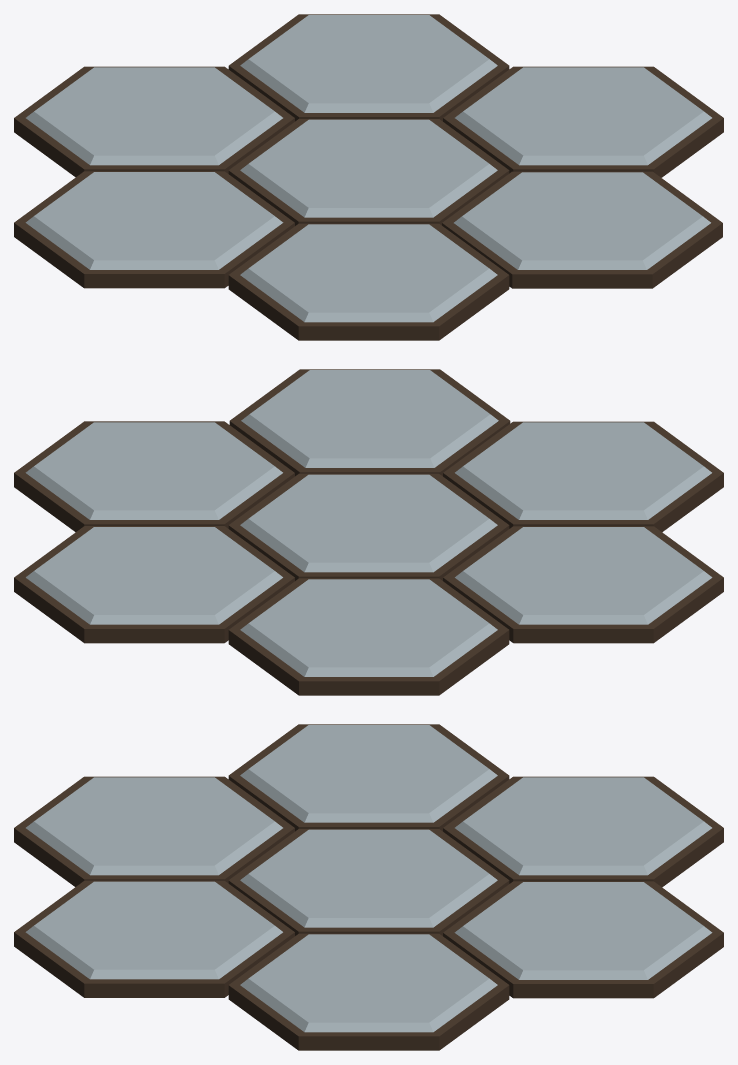
The model's file is Floor.gltf.
The picture shows the model from 3 angles, top to bottom: view 1: azimuth 30°, elevation 25°; view 2: azimuth 150°, elevation 25°; view 3: azimuth 270°, elevation 25°; orthographic projection.
Visible parts, largest first — view 1: hexagon.002, hexagon.005, hexagon.004, hexagon.006, hexagon.001, hexagon.003, hexagon; view 2: hexagon.001, hexagon.003, hexagon.005, hexagon.002, hexagon.006, hexagon, hexagon.004; view 3: hexagon.006, hexagon.004, hexagon.003, hexagon.001, hexagon.002, hexagon.005, hexagon.
Boxes of the visible parts, x1,y1,x2,y2 form: hexagon.002: (228, 223, 509, 340); hexagon.005: (14, 171, 294, 288); hexagon.004: (442, 171, 722, 288); hexagon.006: (443, 66, 723, 177); hexagon.001: (14, 66, 294, 177); hexagon.003: (228, 14, 509, 121); hexagon: (228, 119, 509, 225); hexagon.001: (228, 578, 509, 695); hexagon.003: (14, 526, 294, 643); hexagon.005: (443, 526, 723, 643); hexagon.002: (443, 421, 723, 532); hexagon.006: (14, 421, 294, 532); hexagon: (228, 473, 509, 580); hexagon.004: (229, 369, 510, 476); hexagon.006: (228, 933, 509, 1050); hexagon.004: (14, 880, 294, 997); hexagon.003: (443, 881, 723, 998); hexagon.001: (443, 776, 723, 887); hexagon.002: (14, 776, 294, 886); hexagon.005: (228, 724, 509, 831); hexagon: (228, 829, 509, 935).
Size of the model in its own units: 27.73 by 0.8639 by 26.64.
